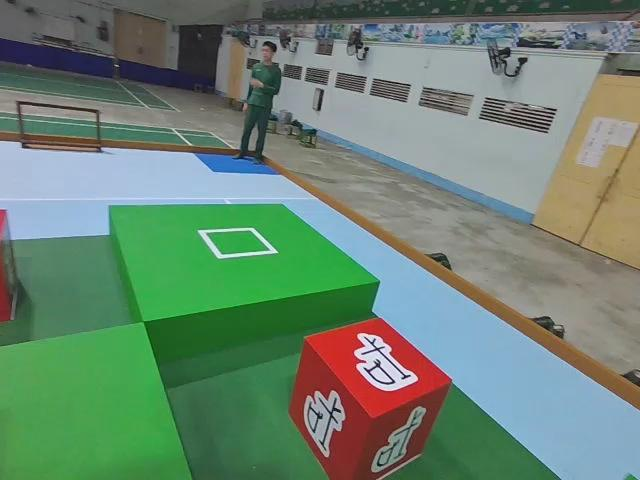R2 Real: (289, 316, 452, 480)
